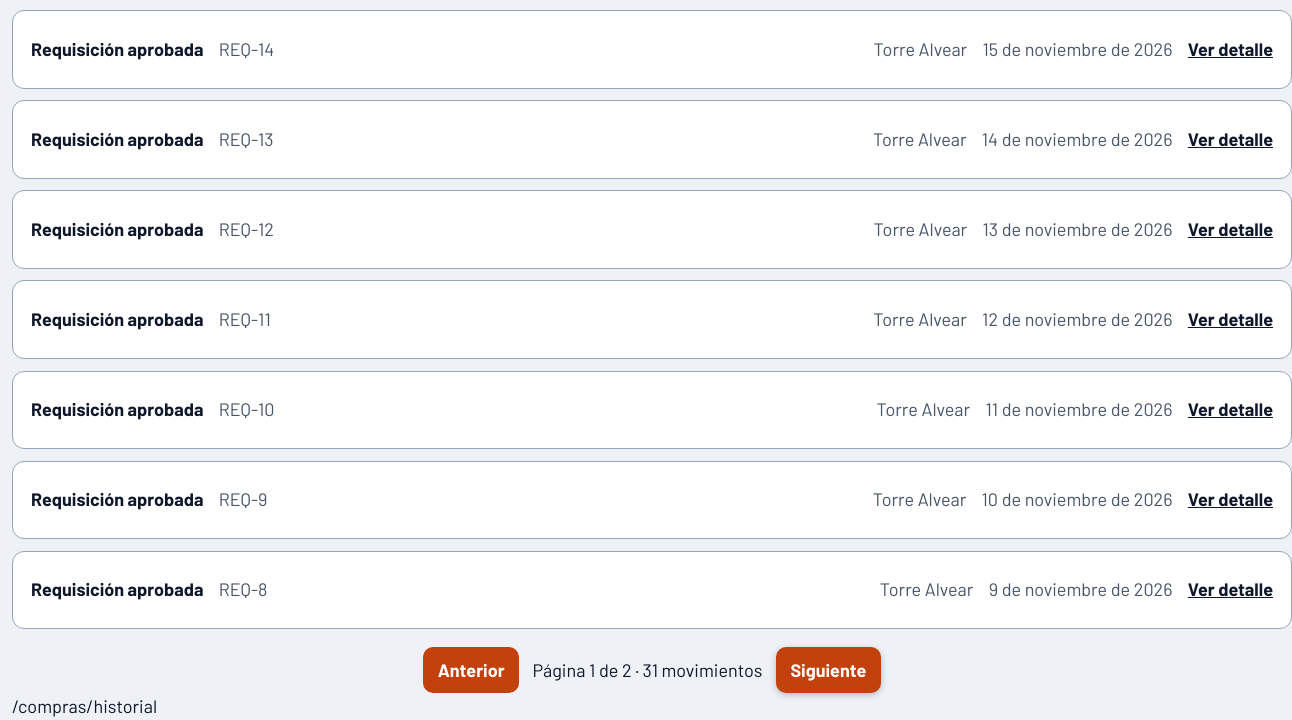
Test: HistorialComprasPage (#221) › combina movimientos fechados, ordena descendente, deduplica y pagina el conjunto
(page scrolled)
Click the button "Siguiente" at (828, 670), box [776,647,881,693]
(page scrolled)
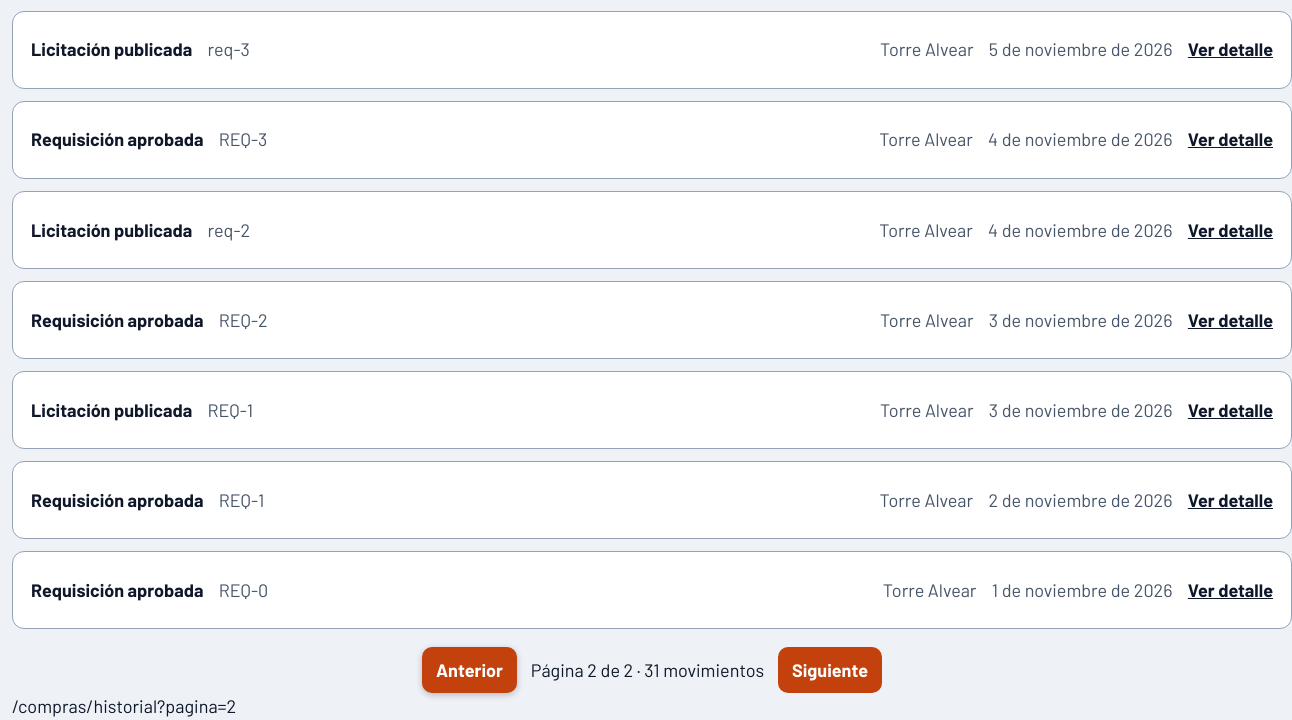
Check: the text "REQ-0" is shown, box [219,577,268,604]
Check: the text with test id "ubicacion" shows "pagina=2", box [12,695,236,717]
